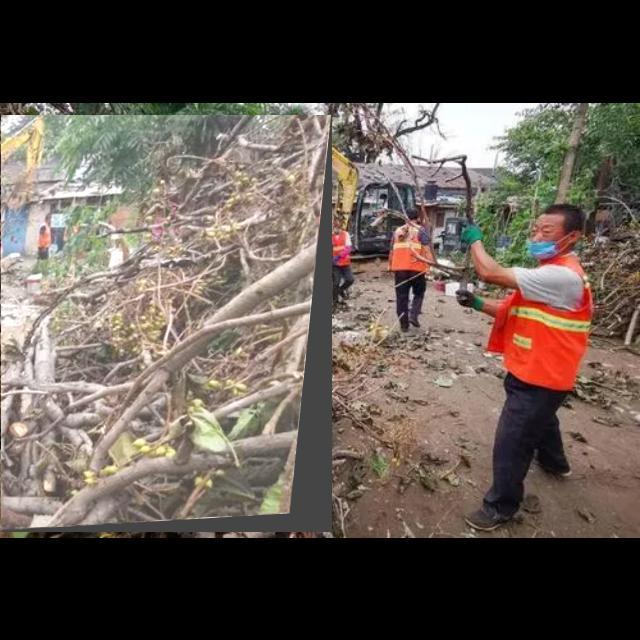fallen_tree: (1, 115, 333, 533)
